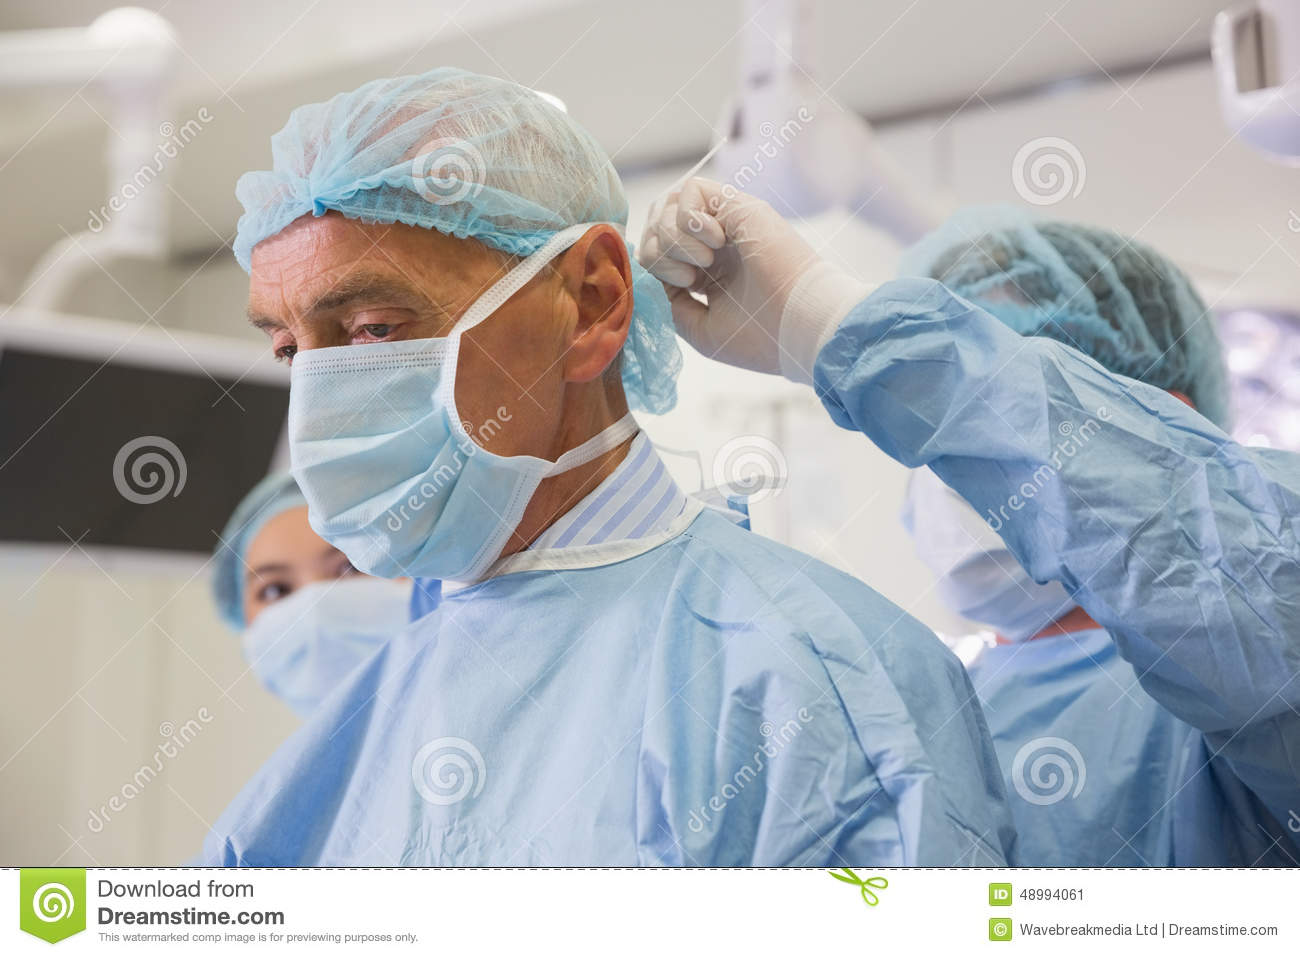mask: (276, 341, 519, 577)
